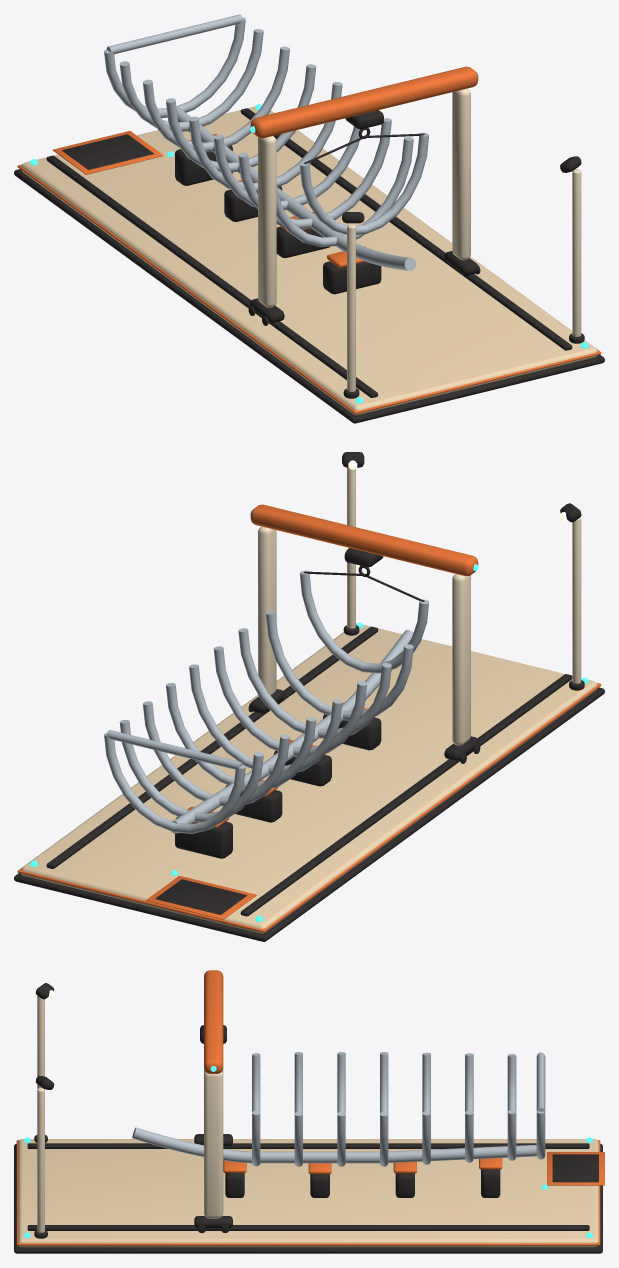
The model's file is dock-2.glb.
3 renders of one model, top to bottom at view 1: azimuth 30°, elevation 25°; view 2: azimuth 150°, elevation 25°; view 3: azimuth 270°, elevation 25°, orthographic. The views are drawn at different scales.
Parts seen in each view (by area): view 1: Cube.001, pipe, Cube, Cube.016, Cube.002; view 2: Cube.001, pipe, Cube, Cube.016, Cube.002; view 3: Cube.001, Cube, pipe, Cube.002, Cube.016.
Boxes of the visible parts, bbox=[...] form: Cube.001: bbox=[21, 106, 597, 415]; pipe: bbox=[104, 14, 428, 270]; Cube: bbox=[14, 108, 604, 423]; Cube.016: bbox=[258, 88, 581, 391]; Cube.002: bbox=[17, 66, 601, 414]; Cube.001: bbox=[21, 623, 597, 933]; pipe: bbox=[104, 570, 428, 833]; Cube: bbox=[14, 452, 604, 941]; Cube.016: bbox=[258, 467, 581, 745]; Cube.002: bbox=[17, 504, 601, 932]; Cube.001: bbox=[18, 1139, 598, 1247]; Cube: bbox=[14, 983, 602, 1253]; pipe: bbox=[132, 1052, 545, 1166]; Cube.002: bbox=[16, 970, 604, 1245]; Cube.016: bbox=[37, 996, 223, 1232].
Bounding box in the file's own units: 1.3 × 1.06 × 3.05.
